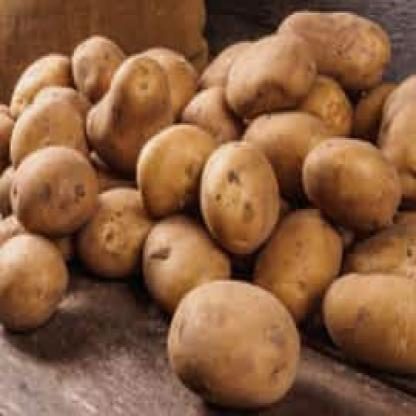potato: (168, 265, 313, 414), (182, 136, 293, 265), (300, 121, 414, 243), (273, 4, 408, 90), (92, 69, 182, 185), (6, 141, 106, 240), (326, 266, 414, 378), (218, 23, 320, 118), (127, 131, 240, 214), (134, 210, 235, 300), (3, 220, 74, 330)
